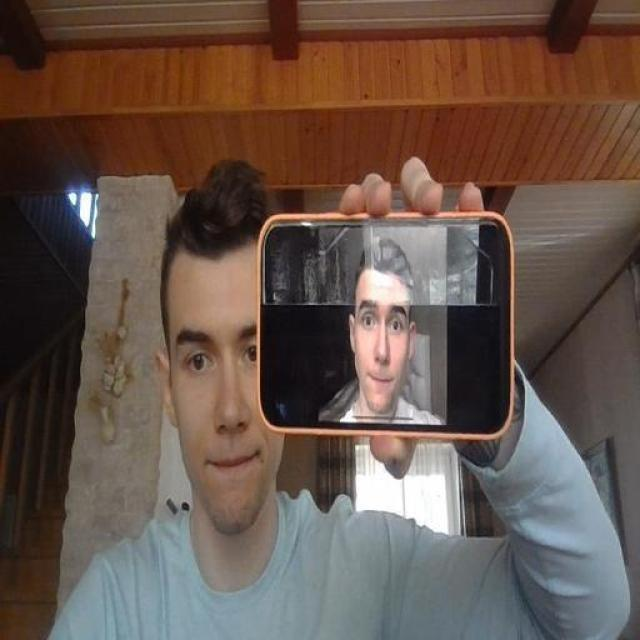bareface: (160, 249, 274, 510)
